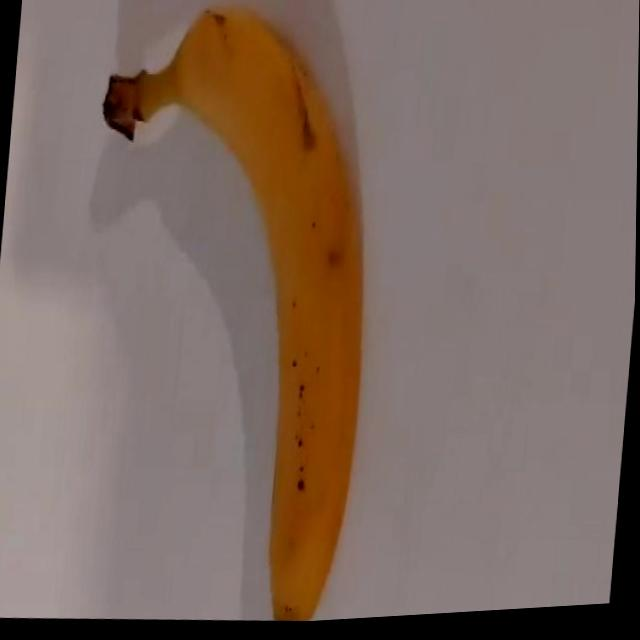Banana: (55, 0, 394, 637)
